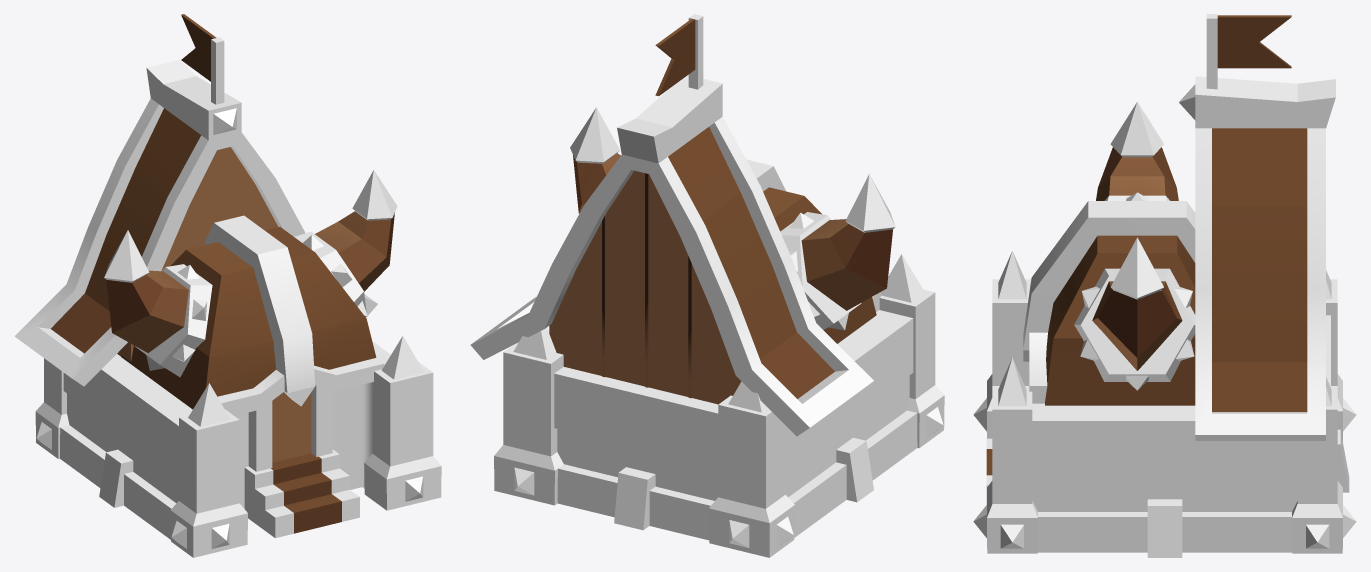
The model's file is Building_CityHall_Lv15.fbx.
3 views of the same model, side by side, from view 1: azimuth 30°, elevation 25°; view 2: azimuth 150°, elevation 25°; view 3: azimuth 270°, elevation 25° (orthographic). The views are drawn at different scales.
Parts seen in each view (by area): view 1: Building_CityHall_Lv15; view 2: Building_CityHall_Lv15; view 3: Building_CityHall_Lv15.
Part boxes in pixels (box(x1,y1,x2,y2)): Building_CityHall_Lv15: box(14, 14, 441, 557); Building_CityHall_Lv15: box(470, 14, 944, 557); Building_CityHall_Lv15: box(973, 14, 1356, 557).
Bounding box in the file's own units: 1.1 × 1.42 × 1.05.
